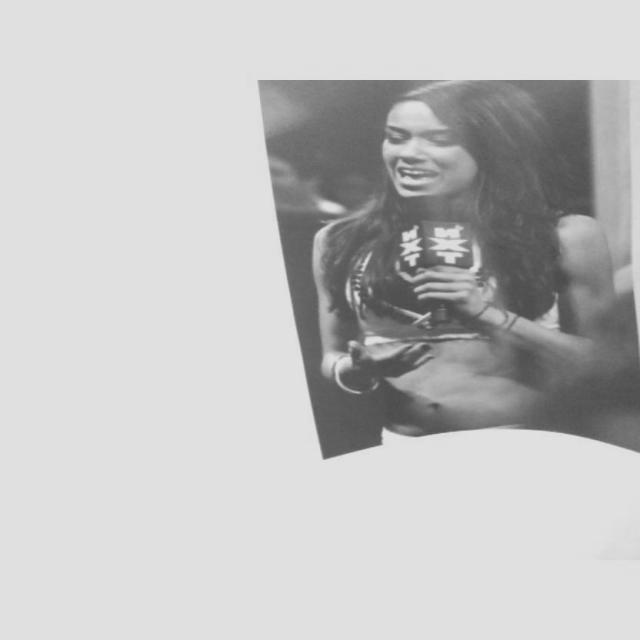fake: (208, 80, 640, 468)
